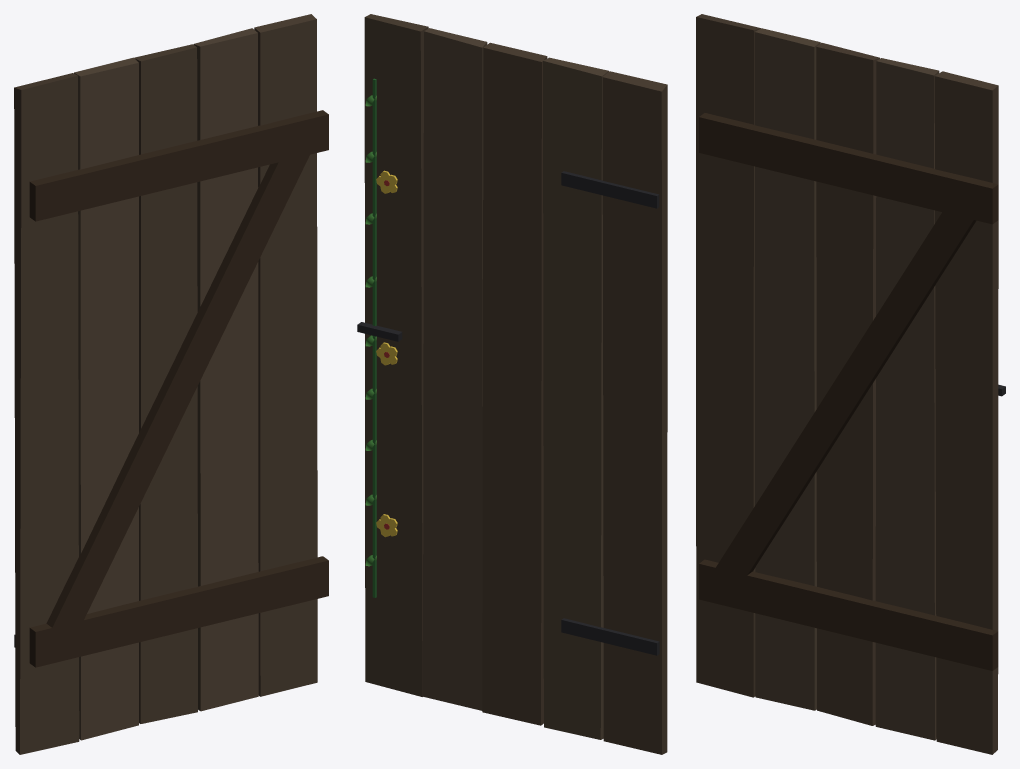
File: bedroom_door.glb
3 renders of one model, left to right at view 1: azimuth 30°, elevation 25°; view 2: azimuth 150°, elevation 25°; view 3: azimuth 330°, elevation 25°, orthographic.
Visible parts, largest first — view 1: bedroom_door; view 2: bedroom_door; view 3: bedroom_door.
Part boxes in pixels (x1=…): bedroom_door: x1=14, y1=14, x2=328, y2=754; bedroom_door: x1=357, y1=14, x2=667, y2=754; bedroom_door: x1=696, y1=14, x2=1005, y2=754.
Size of what is drawn, in the model's own units: 0.8873 by 1.87 by 0.085.
